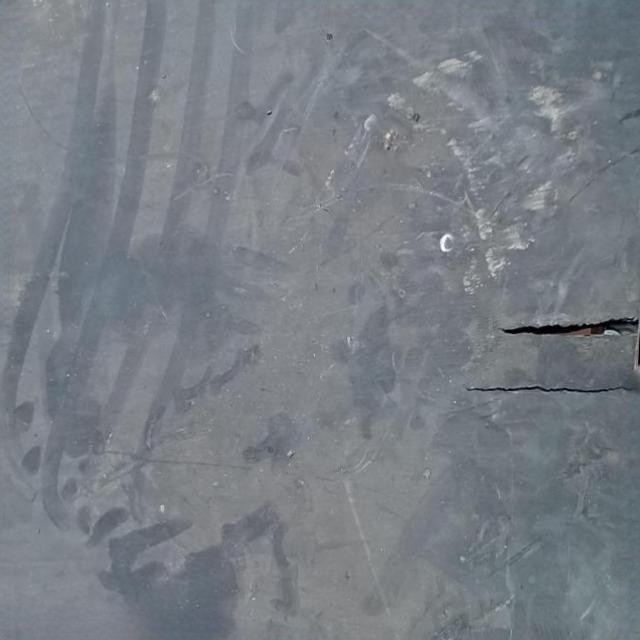Tear: (463, 376, 638, 401), (497, 311, 640, 340)
